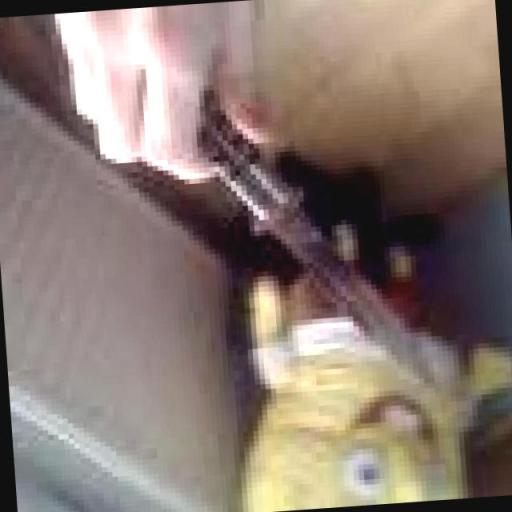knife: (141, 59, 456, 422)
